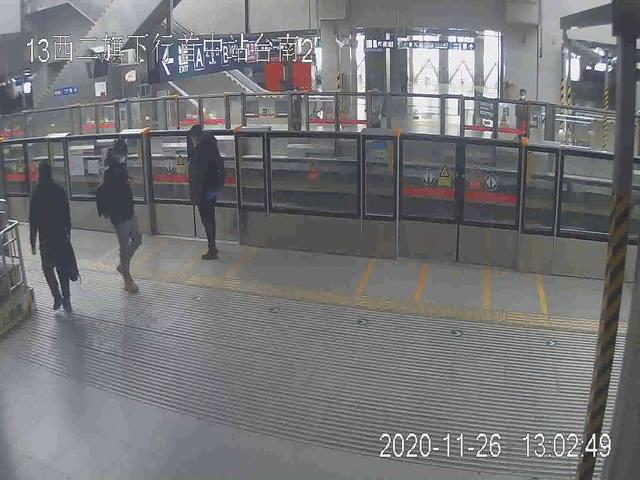person: (27, 158, 82, 315), (97, 140, 146, 296), (183, 125, 225, 259)
